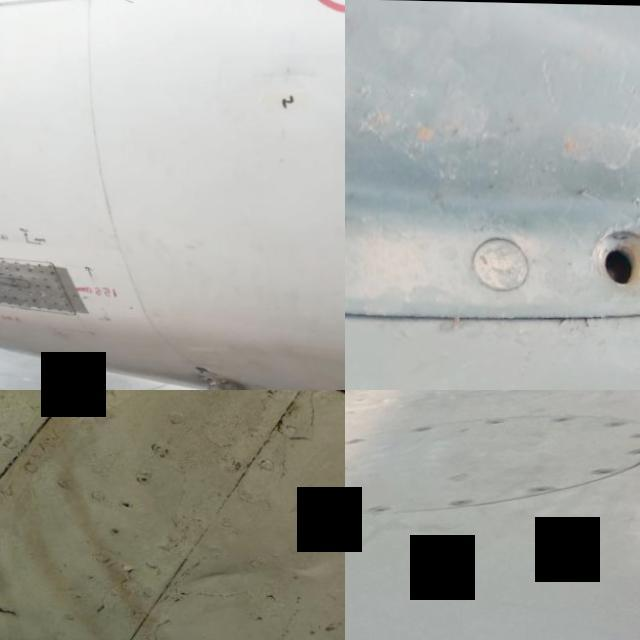Crack: (86, 0, 140, 5)
Dent: (172, 536, 278, 614)
Missing_Fastener: (565, 200, 640, 327)
